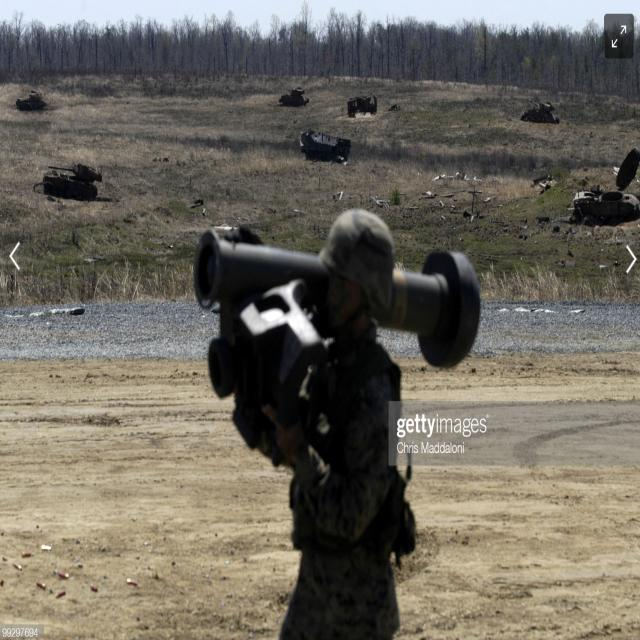bazooka: (191, 201, 501, 388)
